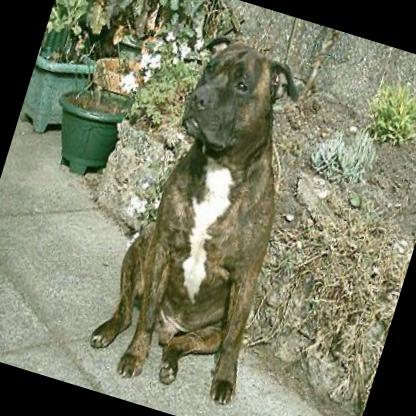boxer: (80, 19, 335, 408)
